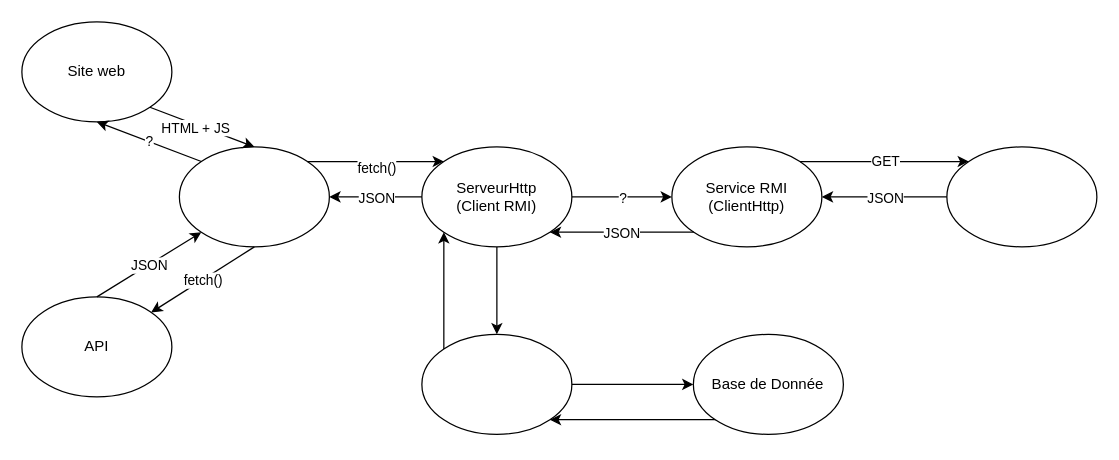
Image size: 1119x460. Some labels were removed from this diagram. Each missing label, with the centre of its shape:
"API (données bloquées)" goes at [1021,196].
"ClientHttp" goes at [253,196].
"Service RMI" goes at [496,383].
